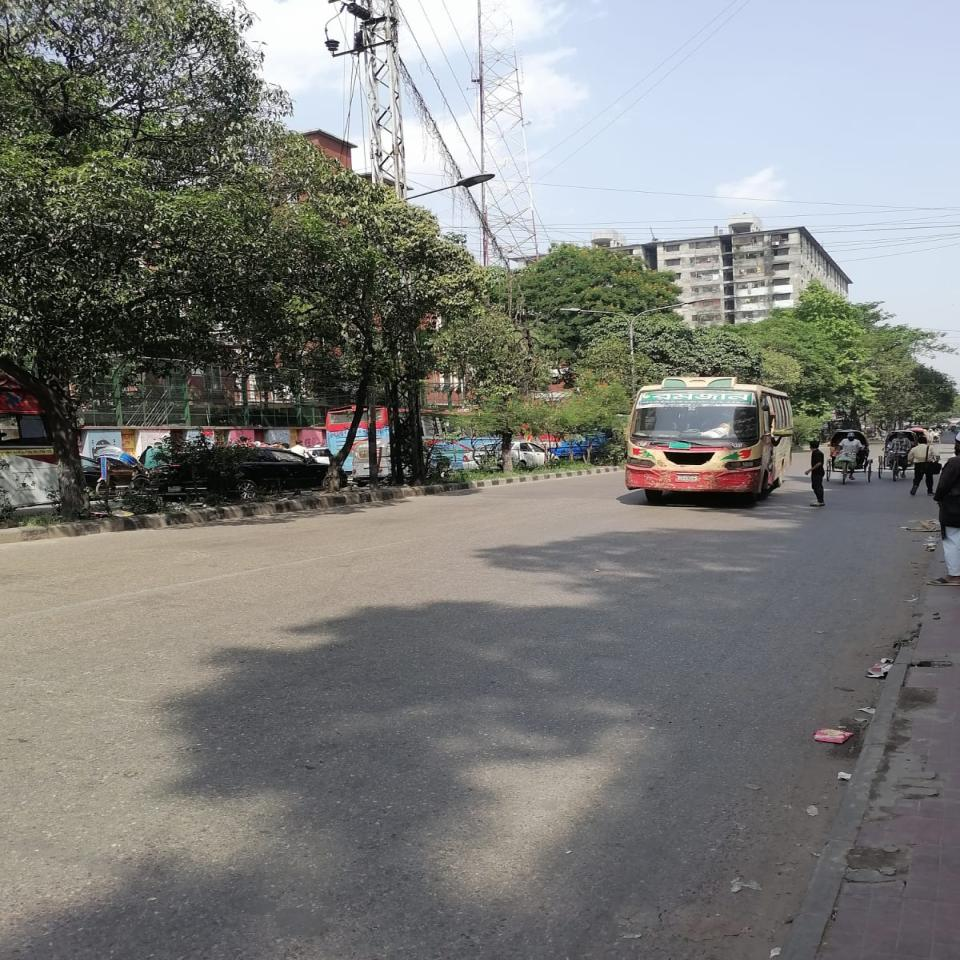person: (805, 440, 825, 508)
